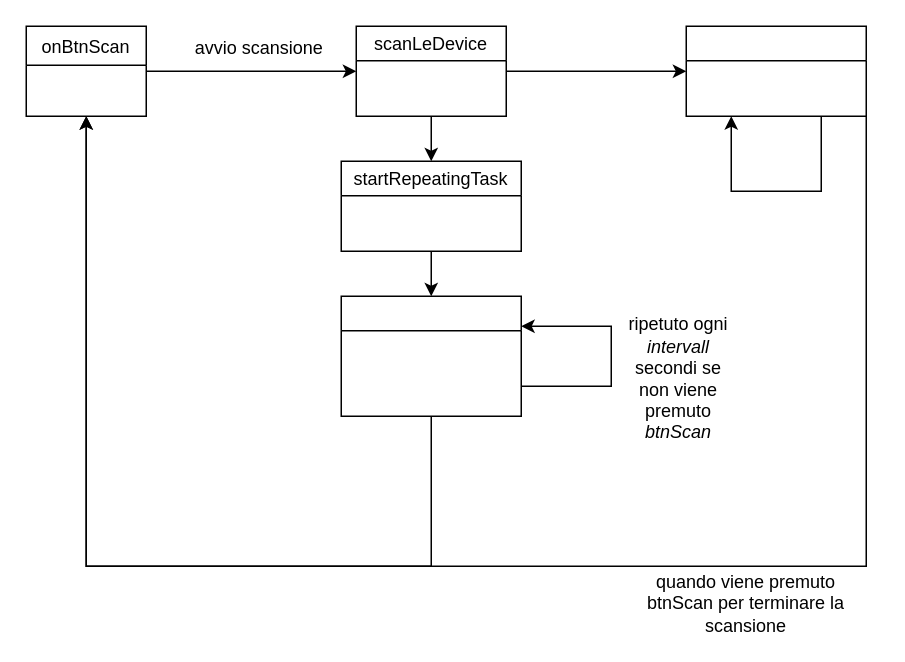
Some shapes in this 905 by 662 pixel diagram are drawn without their labels. The centre of each missing label's shape, as x and y in pixels:
mHandlerTask: [430,355]
mLeScanCallback: [775,70]
